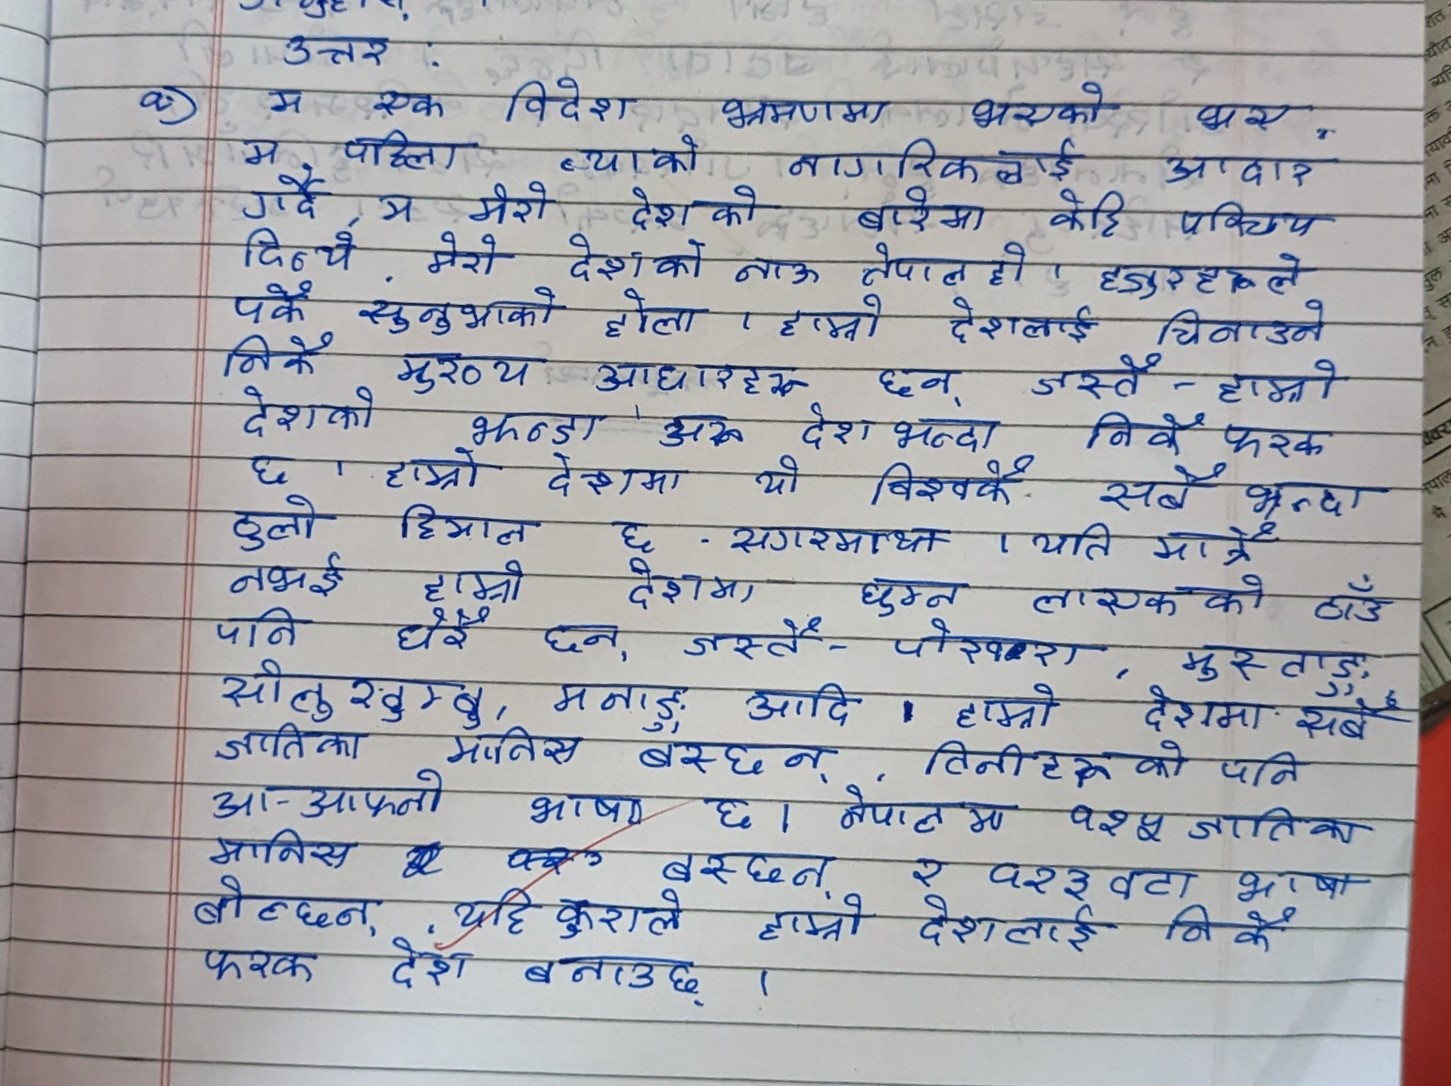text: (213, 662, 487, 724), (787, 136, 1076, 183), (1173, 631, 1372, 697), (917, 740, 1197, 787), (879, 615, 1111, 668), (208, 771, 452, 821), (1089, 248, 1308, 303), (1026, 568, 1271, 617), (184, 876, 394, 932), (962, 65, 1124, 137), (587, 348, 813, 399), (908, 898, 1103, 955), (632, 734, 838, 786), (517, 953, 713, 1007), (355, 283, 561, 334), (719, 514, 955, 558), (1189, 799, 1384, 849), (836, 784, 1026, 835), (1148, 141, 1332, 191), (716, 79, 881, 133), (1156, 301, 1341, 349), (873, 457, 1033, 511), (655, 843, 836, 890), (389, 494, 544, 548), (551, 886, 694, 945), (1172, 194, 1336, 244), (562, 232, 710, 287), (498, 76, 640, 133), (390, 345, 554, 394), (945, 295, 1108, 345), (1166, 905, 1304, 962), (844, 183, 988, 237), (551, 676, 691, 731), (736, 672, 862, 732), (619, 560, 777, 608), (1238, 471, 1391, 520), (1211, 356, 1354, 408), (213, 722, 373, 768), (240, 382, 375, 436), (1078, 400, 1206, 456), (947, 676, 1071, 734), (536, 453, 695, 497), (1224, 853, 1364, 903), (755, 894, 876, 953), (517, 783, 664, 829), (197, 939, 324, 992), (1093, 467, 1227, 517), (208, 825, 355, 870), (590, 287, 718, 340), (976, 845, 1094, 902), (556, 133, 706, 178), (463, 400, 609, 446), (441, 727, 587, 772), (683, 613, 821, 660), (1026, 352, 1166, 399), (338, 127, 485, 171), (1302, 569, 1405, 632), (627, 183, 765, 229), (773, 295, 895, 348), (1138, 684, 1267, 734), (1298, 697, 1413, 751), (279, 26, 402, 76), (1189, 91, 1299, 146), (1148, 520, 1282, 565), (219, 330, 337, 380), (230, 494, 329, 552), (243, 229, 364, 276), (1064, 799, 1181, 846), (1221, 420, 1345, 464), (389, 603, 492, 657), (419, 554, 530, 603), (856, 244, 974, 290), (533, 616, 633, 668), (243, 168, 334, 225), (890, 408, 1006, 453), (1210, 741, 1318, 789), (445, 880, 533, 938), (214, 603, 316, 654), (226, 556, 349, 597), (422, 227, 518, 279), (375, 448, 496, 489), (462, 178, 557, 229), (388, 940, 475, 996), (844, 572, 960, 611), (1046, 189, 1134, 240), (730, 250, 825, 295), (1107, 856, 1197, 903), (1027, 518, 1122, 562), (875, 362, 978, 403), (226, 282, 321, 324), (364, 83, 453, 128), (656, 408, 752, 449), (799, 402, 878, 449), (698, 783, 767, 836), (601, 508, 679, 553), (983, 240, 1040, 299), (751, 449, 805, 506), (131, 76, 187, 131), (240, 447, 306, 489), (374, 185, 425, 224), (238, 130, 286, 171), (262, 78, 308, 117), (910, 850, 955, 888)
